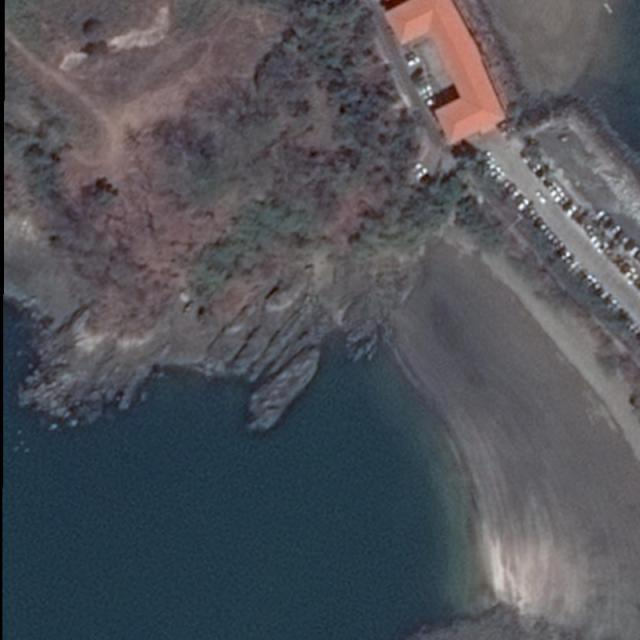vehicle: (578, 210, 590, 224), (535, 191, 547, 205), (532, 162, 546, 174), (523, 153, 537, 165), (411, 69, 423, 82), (422, 90, 434, 102), (526, 209, 538, 221), (518, 199, 530, 211), (590, 234, 602, 246), (594, 238, 606, 250), (598, 242, 610, 254), (626, 266, 638, 278), (419, 84, 432, 95), (581, 274, 594, 285), (554, 192, 567, 203), (568, 203, 579, 216), (413, 162, 424, 174), (418, 166, 429, 178), (590, 283, 602, 294), (533, 218, 544, 230), (612, 305, 624, 316), (491, 166, 502, 178), (563, 200, 574, 212), (589, 227, 601, 238), (550, 187, 562, 198), (585, 221, 595, 234), (406, 58, 420, 67), (614, 231, 625, 242), (511, 190, 522, 201), (495, 171, 506, 182), (607, 299, 618, 310), (610, 226, 622, 236), (553, 242, 565, 252), (570, 260, 582, 270), (538, 222, 548, 234), (558, 196, 570, 206), (630, 272, 640, 284), (605, 220, 615, 231), (600, 215, 610, 226), (598, 292, 609, 302), (560, 251, 570, 262), (542, 228, 553, 238), (621, 264, 632, 274), (586, 279, 598, 288), (488, 162, 497, 174), (542, 177, 554, 186), (620, 237, 630, 247), (565, 256, 575, 266), (631, 246, 640, 257), (422, 174, 431, 185), (594, 289, 605, 298), (558, 247, 567, 258), (503, 179, 512, 190), (485, 157, 494, 168), (597, 210, 606, 220), (575, 266, 585, 275), (507, 184, 516, 194), (617, 312, 627, 321), (629, 321, 638, 331), (548, 182, 558, 191), (626, 241, 635, 250), (550, 238, 560, 246), (546, 234, 556, 242), (634, 326, 640, 336), (636, 254, 640, 262), (636, 333, 640, 341)
